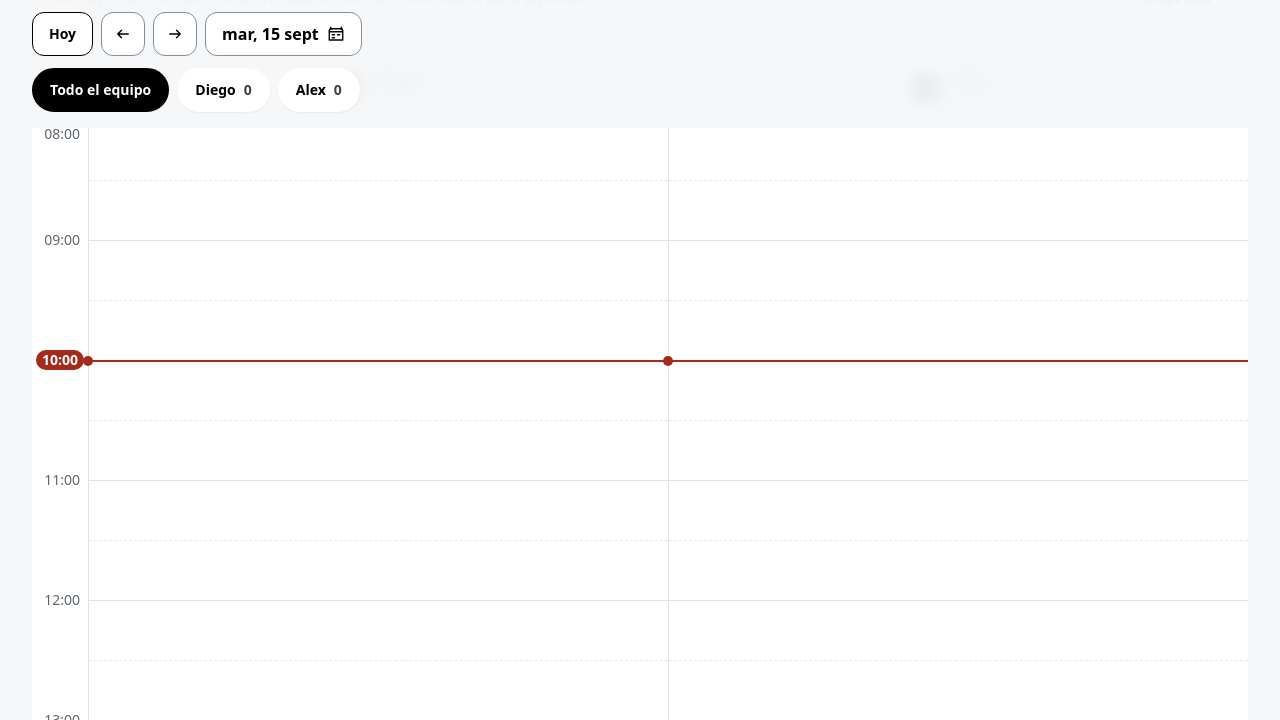
it: AgendaPage › books an empty half hour with the barber and day already chosen
The width and height of the screenshot is (1280, 720).
(page scrolled)
Click the 1st button "11:00" at (135, 496), box [89,480,668,540]
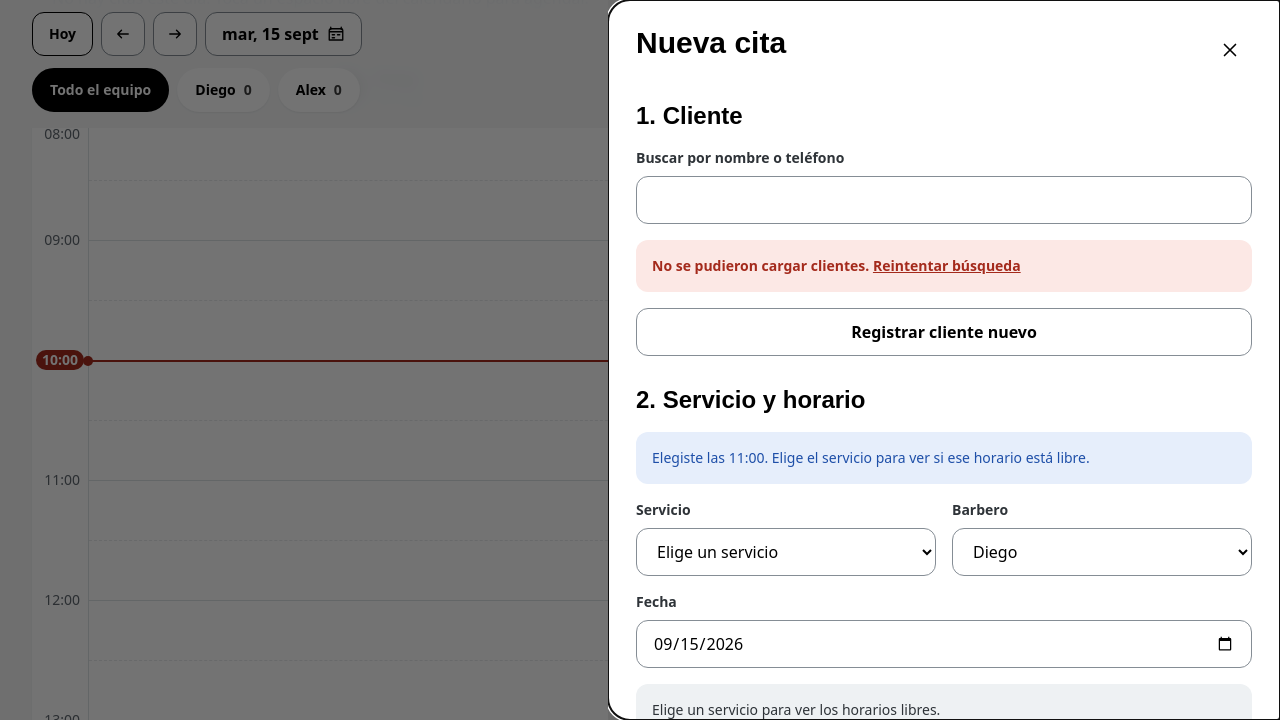
Result: the dropdown labelled "Barbero" shows "Diego" at [952,528,1252,576]
Result: the date field labelled "Fecha" holds "2026-09-15" at [636,620,1252,668]
